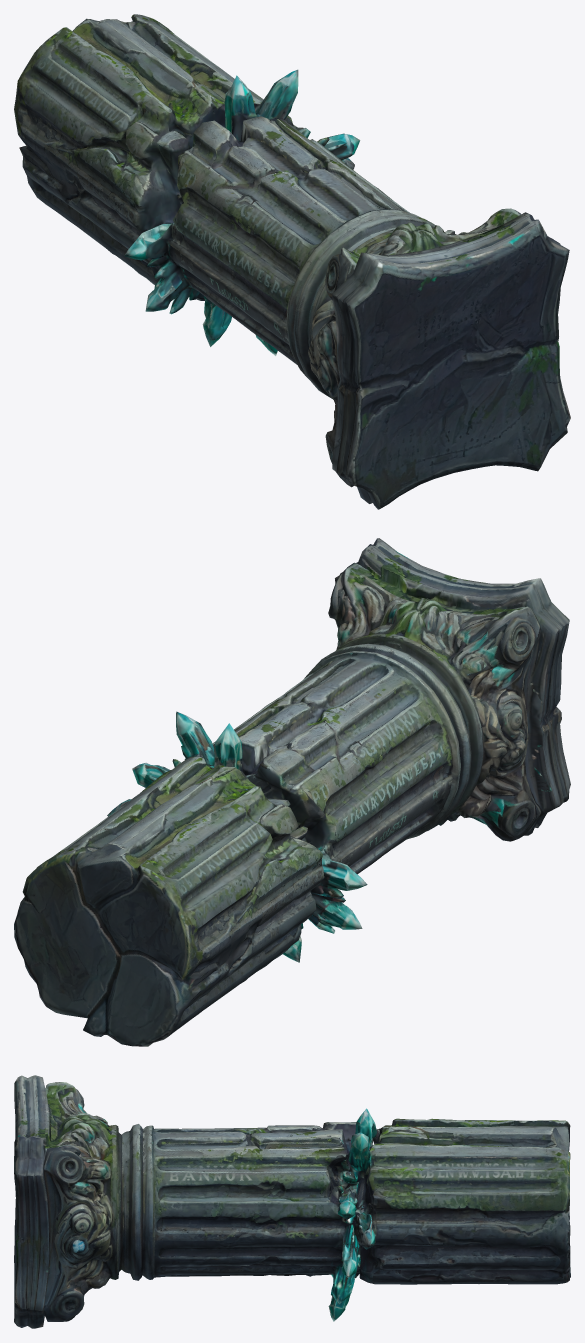
The model's file is Pillar3.fbx.
3 views of the same model, one above another, from view 1: azimuth 30°, elevation 25°; view 2: azimuth 150°, elevation 25°; view 3: azimuth 270°, elevation 25° (orthographic). The views are drawn at different scales.
Visible parts, largest first — view 1: texture_mapping; view 2: texture_mapping; view 3: texture_mapping.
Boxes of the visible parts, x1=… form: texture_mapping: x1=14, y1=14, x2=570, y2=509; texture_mapping: x1=14, y1=538, x2=570, y2=1046; texture_mapping: x1=14, y1=1075, x2=570, y2=1328.
Bounding box in the file's own units: 0.3909 × 0.9957 × 0.4107.
Materials: 1 (1 with a texture image).
